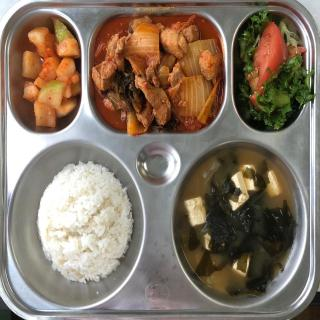Nasi: (36, 162, 134, 289)
